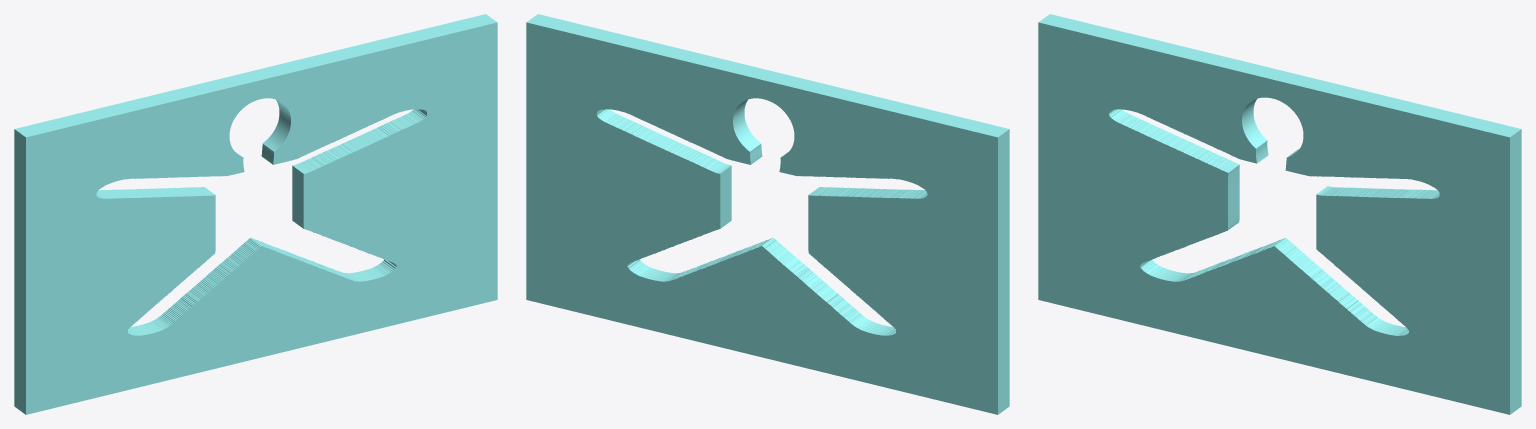
Rendered from JumpingJack.fbx.
3 renders of one model, left to right at view 1: azimuth 30°, elevation 25°; view 2: azimuth 150°, elevation 25°; view 3: azimuth 330°, elevation 25°, orthographic.
Visible parts, largest first — view 1: Curve; view 2: Curve; view 3: Curve.
Part boxes in pixels (x1,y1,x2,y2): Curve: (14, 14, 497, 414); Curve: (526, 14, 1009, 414); Curve: (1038, 14, 1521, 414).
Bounding box in the file's own units: 677 × 381 × 28.68.
